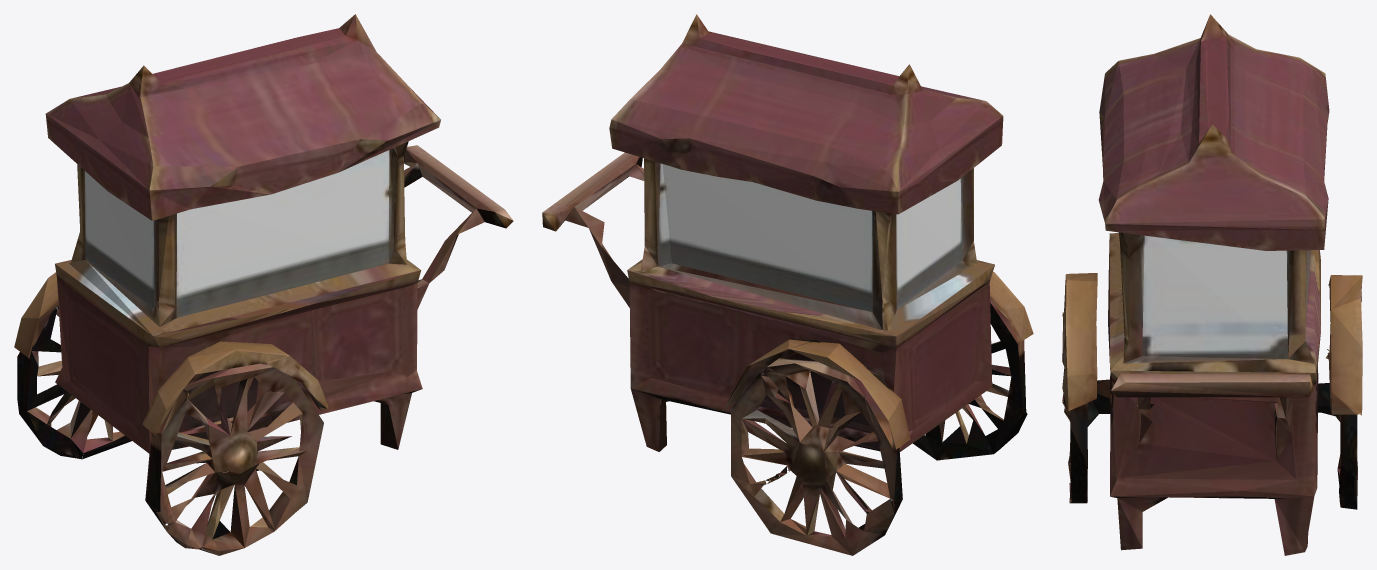
Rendered from park_popcorn_cart_1117.glb.
The picture shows the model from 3 angles, left to right: view 1: azimuth 30°, elevation 25°; view 2: azimuth 150°, elevation 25°; view 3: azimuth 270°, elevation 25°; orthographic projection. The views are drawn at different scales.
Parts seen in each view (by area): view 1: world; view 2: world; view 3: world.
Part boxes in pixels (box(x1,y1,x2,y2)): world: box(14, 14, 513, 555); world: box(542, 14, 1033, 555); world: box(1062, 14, 1362, 555).
Size of the model in its own units: 0.8916 by 1 by 0.5776.
Materials: 1 (1 with a texture image).
